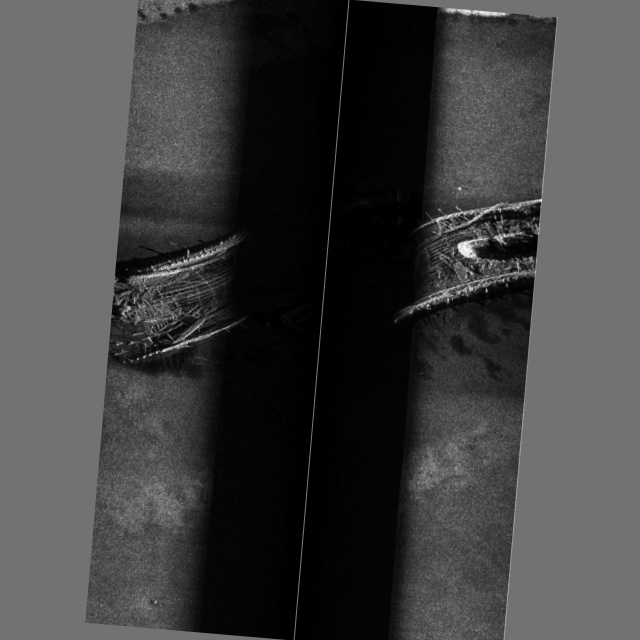Shipwreck: (106, 158, 541, 397)
